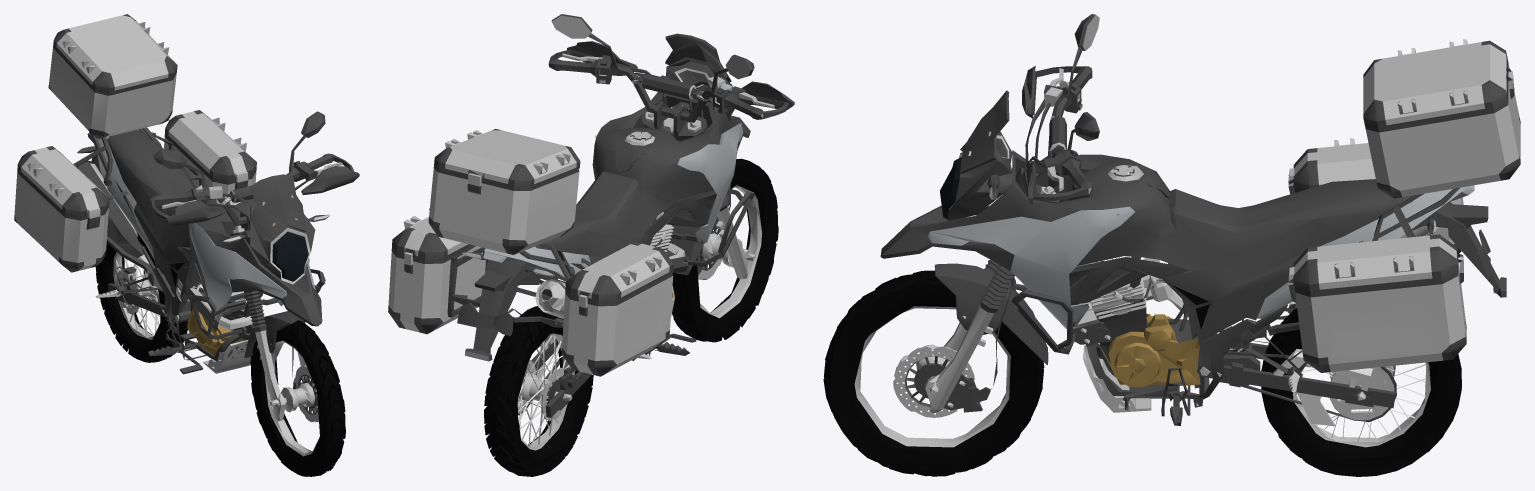
File: moto_tt.glb
3 renders of one model, left to right at view 1: azimuth 30°, elevation 25°; view 2: azimuth 150°, elevation 25°; view 3: azimuth 270°, elevation 25°, orthographic. The views are drawn at different scales.
Visible parts, largest first — view 1: carroceria_detalle, rueda_tras_detalle, carroceria_pintura, rueda_del_detalle, carroceria_vidrio, horquilla_del_detalle; view 2: carroceria_detalle, rueda_tras_detalle, rueda_del_detalle, carroceria_pintura, horquilla_del_detalle; view 3: carroceria_detalle, rueda_tras_detalle, carroceria_pintura, rueda_del_detalle, carroceria_vidrio.
Boxes of the visible parts, x1,y1,x2,y2 form: carroceria_detalle: (14,14,359,422); rueda_tras_detalle: (250,320,345,476); carroceria_pintura: (97,129,315,321); rueda_del_detalle: (95,228,187,362); carroceria_vidrio: (272,231,308,281); horquilla_del_detalle: (116,254,160,336); carroceria_detalle: (388,14,794,421); rueda_tras_detalle: (672,158,778,342); rueda_del_detalle: (484,306,593,476); carroceria_pintura: (483,82,743,277); horquilla_del_detalle: (517,335,569,447); carroceria_detalle: (880,14,1520,426); rueda_tras_detalle: (823,270,1044,476); carroceria_pintura: (928,80,1474,328); rueda_del_detalle: (1261,308,1461,476); carroceria_vidrio: (940,157,961,219).
Bounding box in the file's own units: 0.9496 × 1.4 × 2.15.
